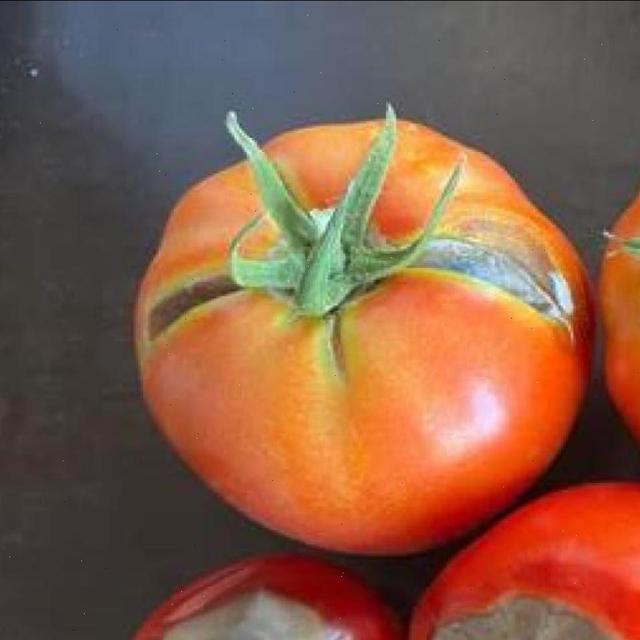Blossom End Rot Fruit: (130, 32, 353, 410)
